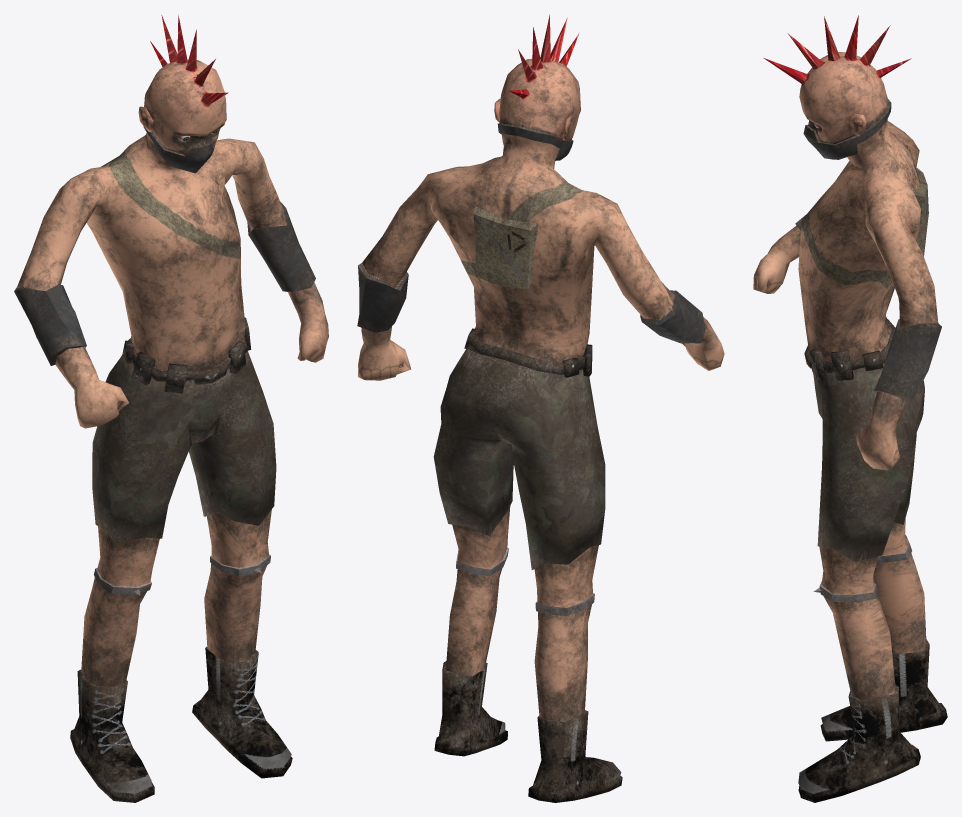
File: Anim_cogerobjeto_npc2.0037.obj
3 renders of one model, left to right at view 1: azimuth 30°, elevation 25°; view 2: azimuth 150°, elevation 25°; view 3: azimuth 270°, elevation 25°, orthographic.
Visible parts, largest first — view 1: polySurface1; view 2: polySurface1; view 3: polySurface1.
Part boxes in pixels (bbox=[...]): polySurface1: bbox=[14, 15, 328, 802]; polySurface1: bbox=[357, 14, 724, 802]; polySurface1: bbox=[753, 15, 947, 802].
Size of the model in its own units: 4.48 by 10.25 by 2.41.
